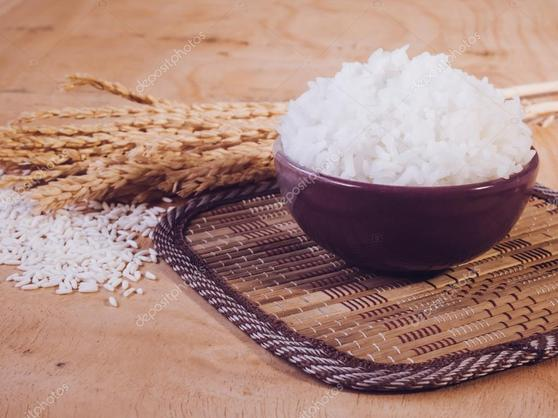rice: (284, 53, 536, 185)
